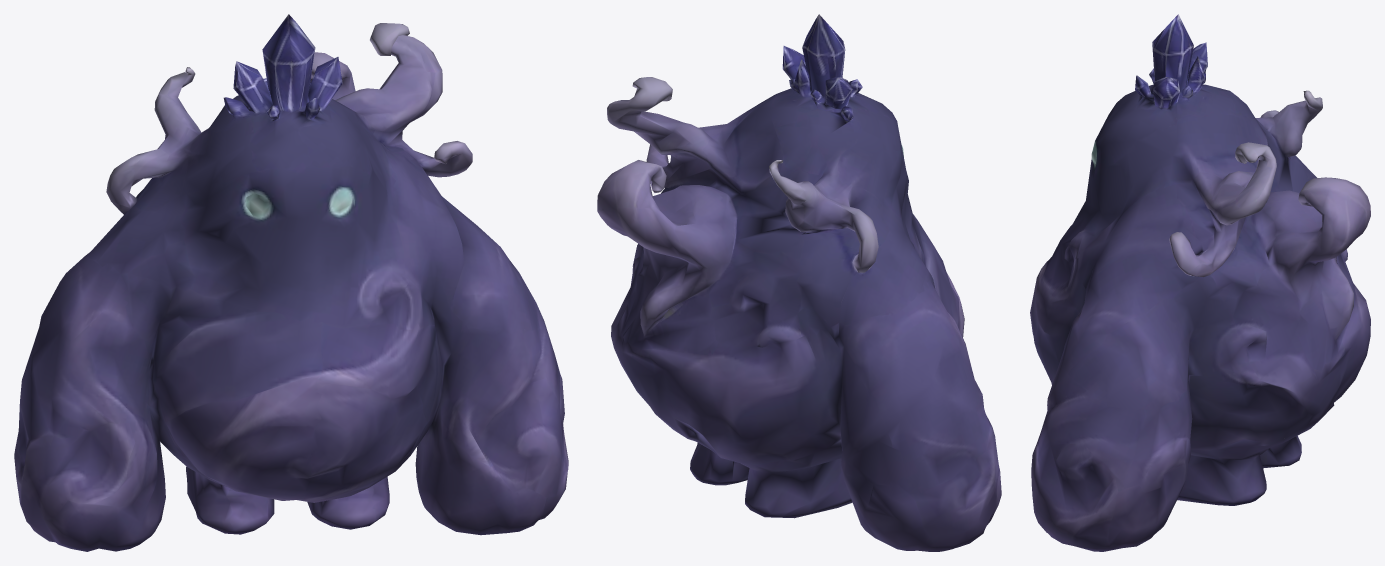
Rendered from gloom-brute.medium.glb.
3 views of the same model, side by side, from view 1: azimuth 30°, elevation 25°; view 2: azimuth 150°, elevation 25°; view 3: azimuth 270°, elevation 25° (orthographic). The views are drawn at different scales.
Parts seen in each view (by area): view 1: tripo_node_c1b5ab27-b0b6-47da-9496-5e38183ae23a; view 2: tripo_node_c1b5ab27-b0b6-47da-9496-5e38183ae23a; view 3: tripo_node_c1b5ab27-b0b6-47da-9496-5e38183ae23a.
Boxes of the visible parts, left/top/right/bottom form: tripo_node_c1b5ab27-b0b6-47da-9496-5e38183ae23a: left=14, top=14, right=568, bottom=551; tripo_node_c1b5ab27-b0b6-47da-9496-5e38183ae23a: left=597, top=14, right=1001, bottom=551; tripo_node_c1b5ab27-b0b6-47da-9496-5e38183ae23a: left=1030, top=14, right=1370, bottom=551.
Size of the model in its own units: 1.64 by 1.7 by 1.17.
Materials: 1 (1 with a texture image).
